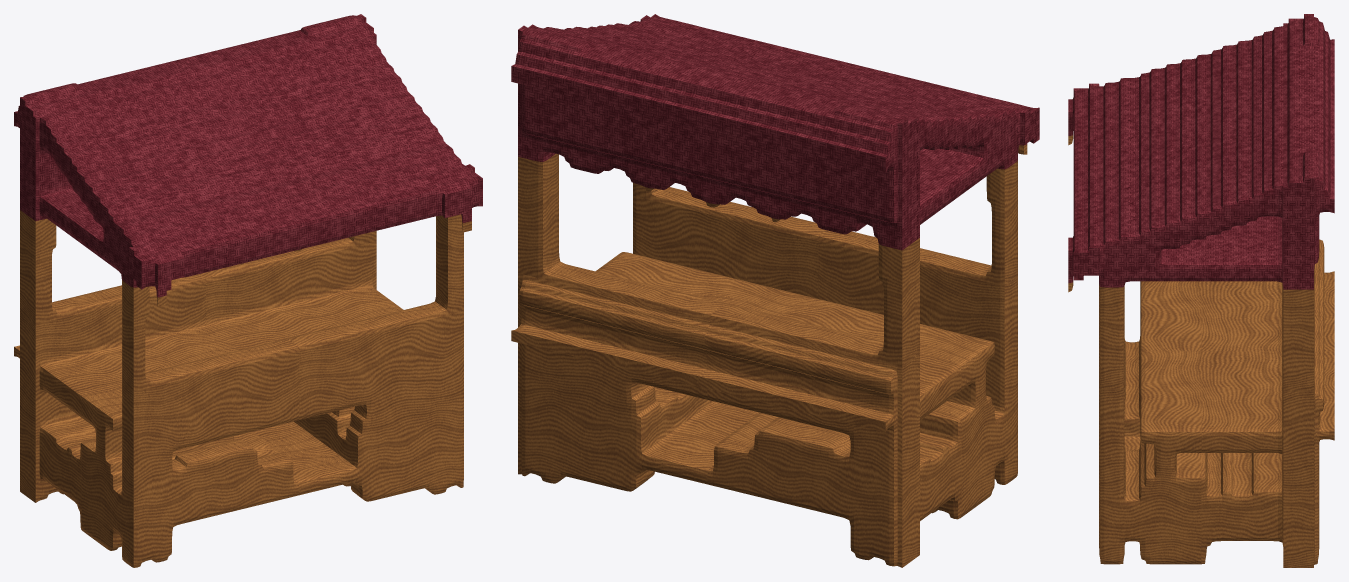
The model's file is prop_market_stall.glb.
3 renders of one model, left to right at view 1: azimuth 30°, elevation 25°; view 2: azimuth 150°, elevation 25°; view 3: azimuth 270°, elevation 25°, orthographic. The views are drawn at different scales.
Visible parts, largest first — view 1: town_prop_market_stall; view 2: town_prop_market_stall; view 3: town_prop_market_stall.
Boxes of the visible parts, x1,y1,x2,y2 form: town_prop_market_stall: [14, 14, 482, 567]; town_prop_market_stall: [511, 14, 1039, 567]; town_prop_market_stall: [1068, 14, 1334, 567].
Bounding box in the file's own units: 1.98 × 2.19 × 1.35.
1 material, 1 textured.
